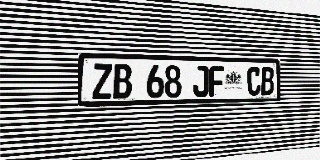6: (147, 65, 164, 98)
8: (165, 65, 181, 98)
B: (113, 64, 132, 99), (261, 67, 274, 95)
C: (247, 67, 261, 96)
F: (209, 66, 224, 97)
J: (193, 66, 209, 97)
Z: (92, 64, 112, 99)
